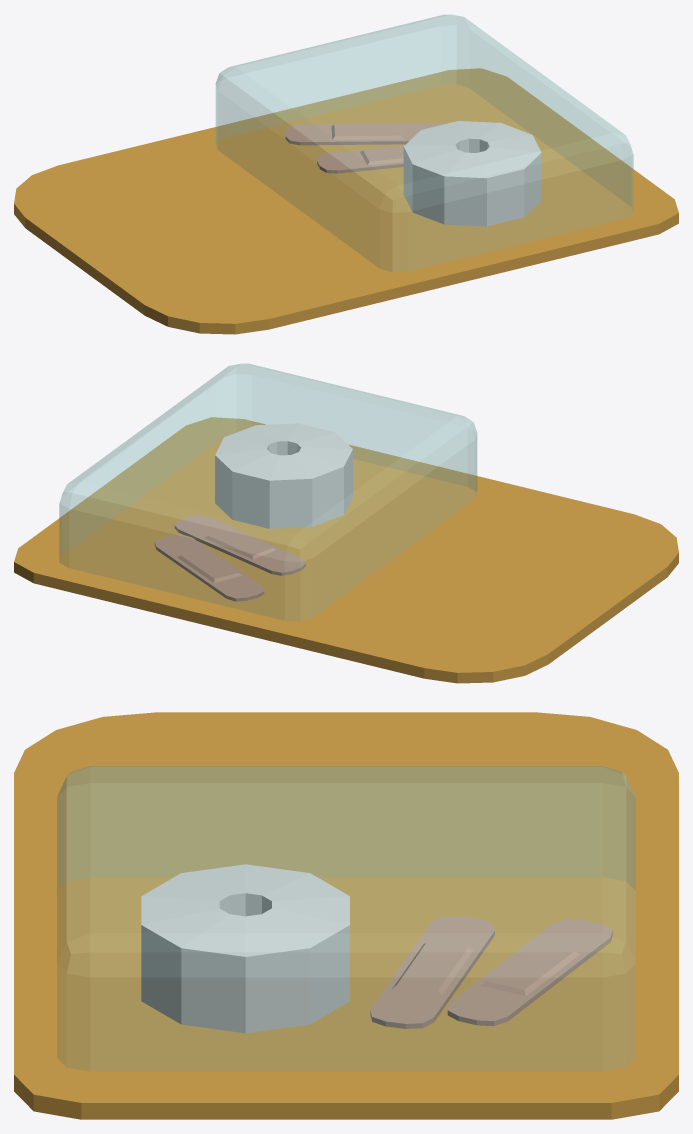
File: PatchKit.fbx
3 views of the same model, one above another, from view 1: azimuth 30°, elevation 25°; view 2: azimuth 150°, elevation 25°; view 3: azimuth 270°, elevation 25° (orthographic). The views are drawn at different scales.
Parts seen in each view (by area): view 1: Cube, Cube.001, Torus; view 2: Cube, Cube.001, Torus; view 3: Cube, Cube.001, Torus.
Boxes of the visible parts, left/top/right/bottom form: Cube: left=14, top=68, right=678, bottom=334; Cube.001: left=216, top=14, right=633, bottom=272; Torus: left=285, top=121, right=541, bottom=226; Cube: left=14, top=417, right=678, bottom=683; Cube.001: left=59, top=363, right=476, bottom=621; Torus: left=154, top=423, right=352, bottom=601; Cube: left=14, top=712, right=678, bottom=1119; Cube.001: left=57, top=766, right=635, bottom=1071; Torus: left=141, top=864, right=612, bottom=1033.
Size of the model in its own units: 278 by 46.81 by 200.
